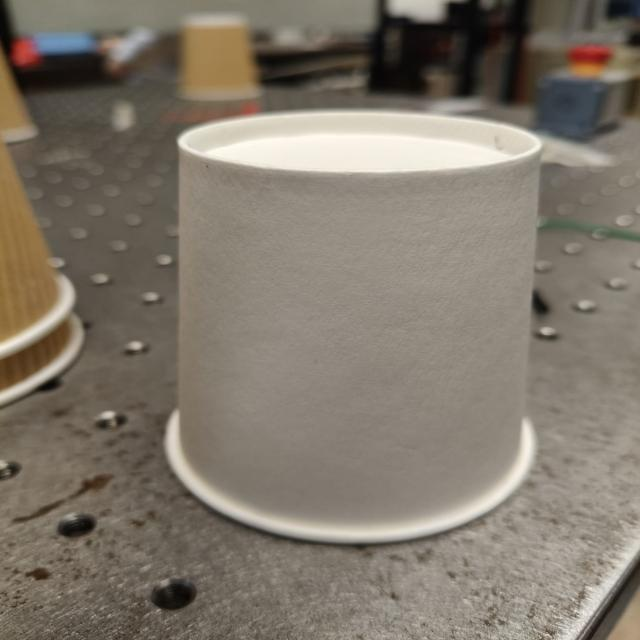Browncup: (0, 140, 60, 342), (0, 300, 92, 404), (179, 12, 261, 100), (0, 46, 38, 144)
Whitecup: (165, 110, 541, 544)
